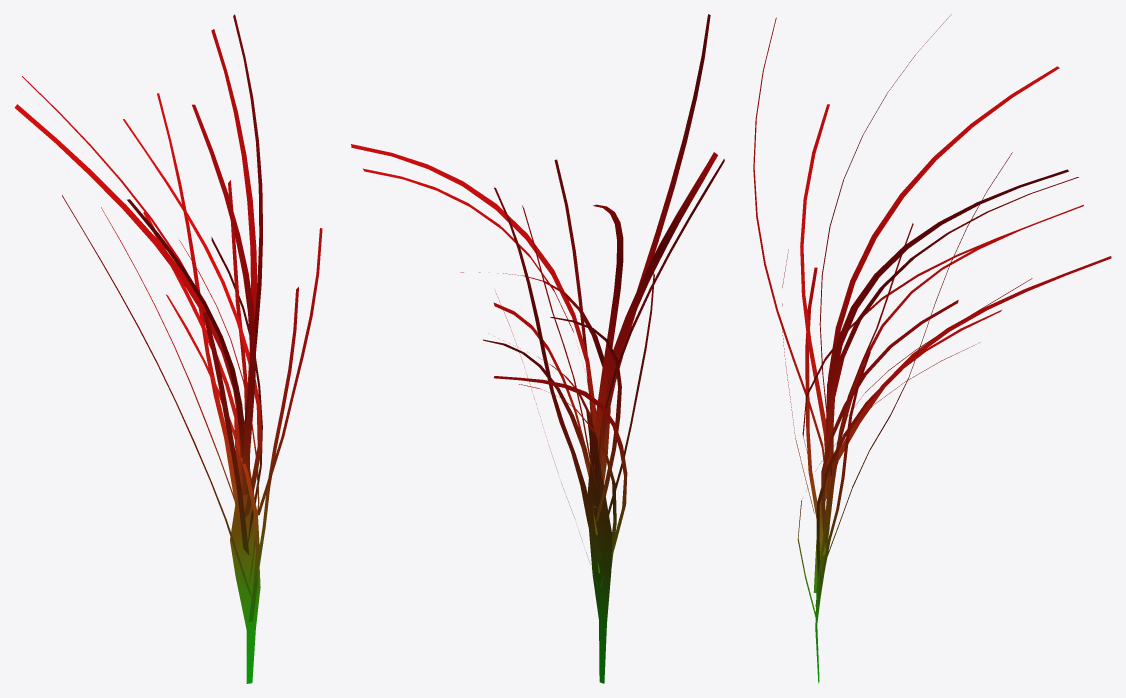
The model's file is Sea Wheatgrass_LOD1_Var10_ui2oagjia.fbx.
3 renders of one model, left to right at view 1: azimuth 30°, elevation 25°; view 2: azimuth 150°, elevation 25°; view 3: azimuth 270°, elevation 25°, orthographic. The views are drawn at different scales.
Parts seen in each view (by area): view 1: _fbh7_Var10_LOD1; view 2: _fbh7_Var10_LOD1; view 3: _fbh7_Var10_LOD1.
Part boxes in pixels (x1,y1,x2,y2): _fbh7_Var10_LOD1: (14,14,322,683); _fbh7_Var10_LOD1: (351,14,724,683); _fbh7_Var10_LOD1: (753,14,1111,683).
Size of the model in its own units: 18.58 by 39.2 by 20.32.
